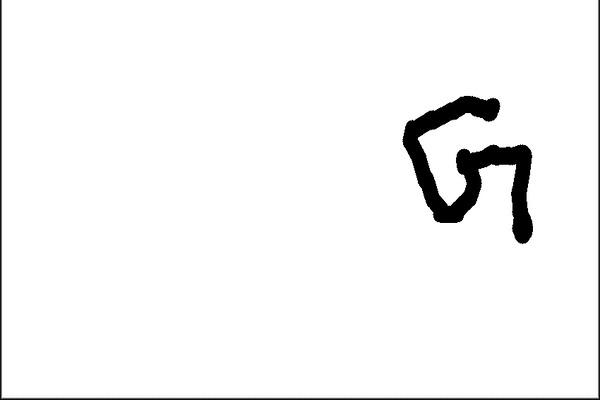G: (397, 91, 539, 247)
